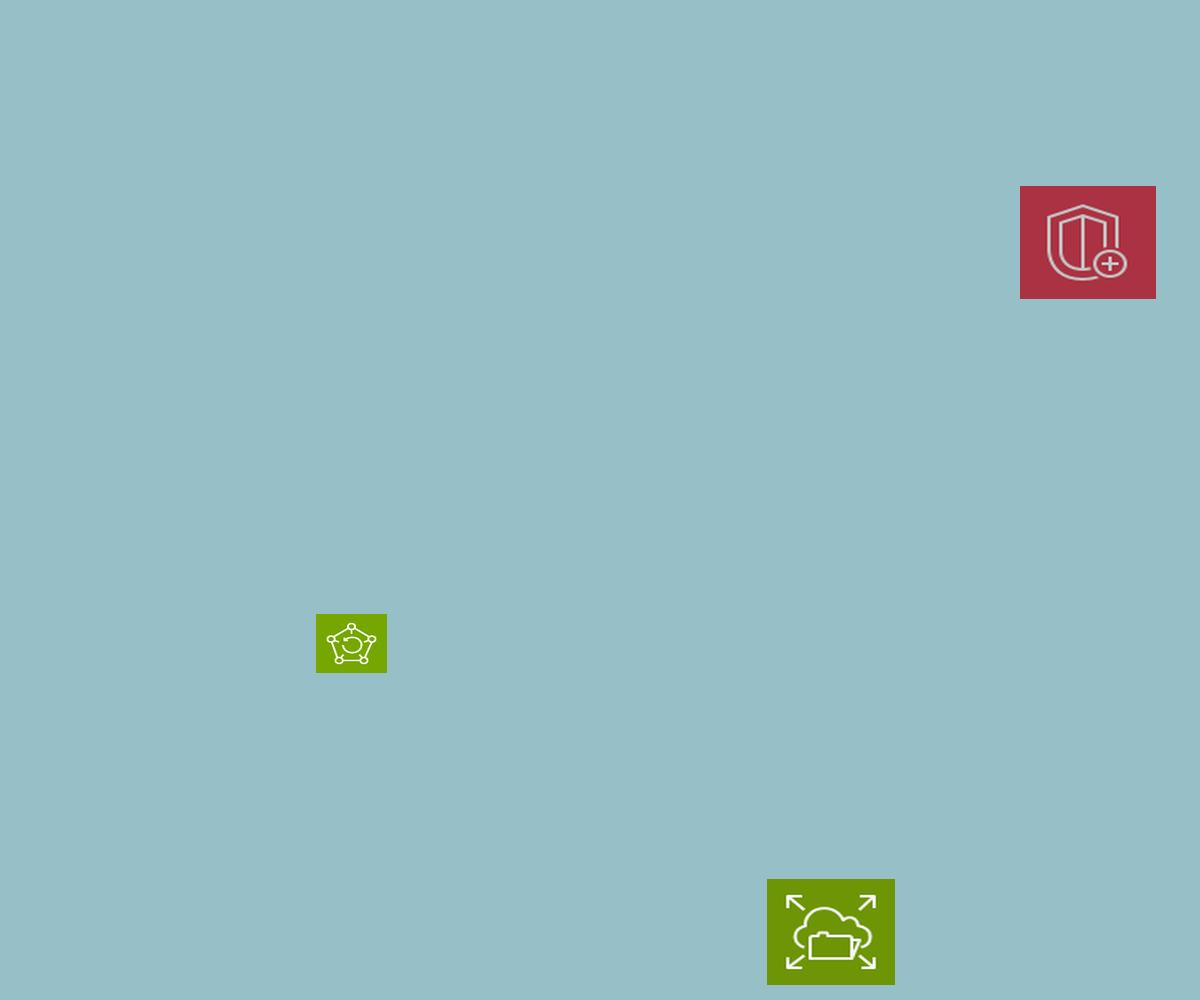AWS-Backup: (316, 614, 387, 673)
AWS-EFS: (767, 879, 895, 985)
AWS-Shield: (1020, 186, 1156, 299)
